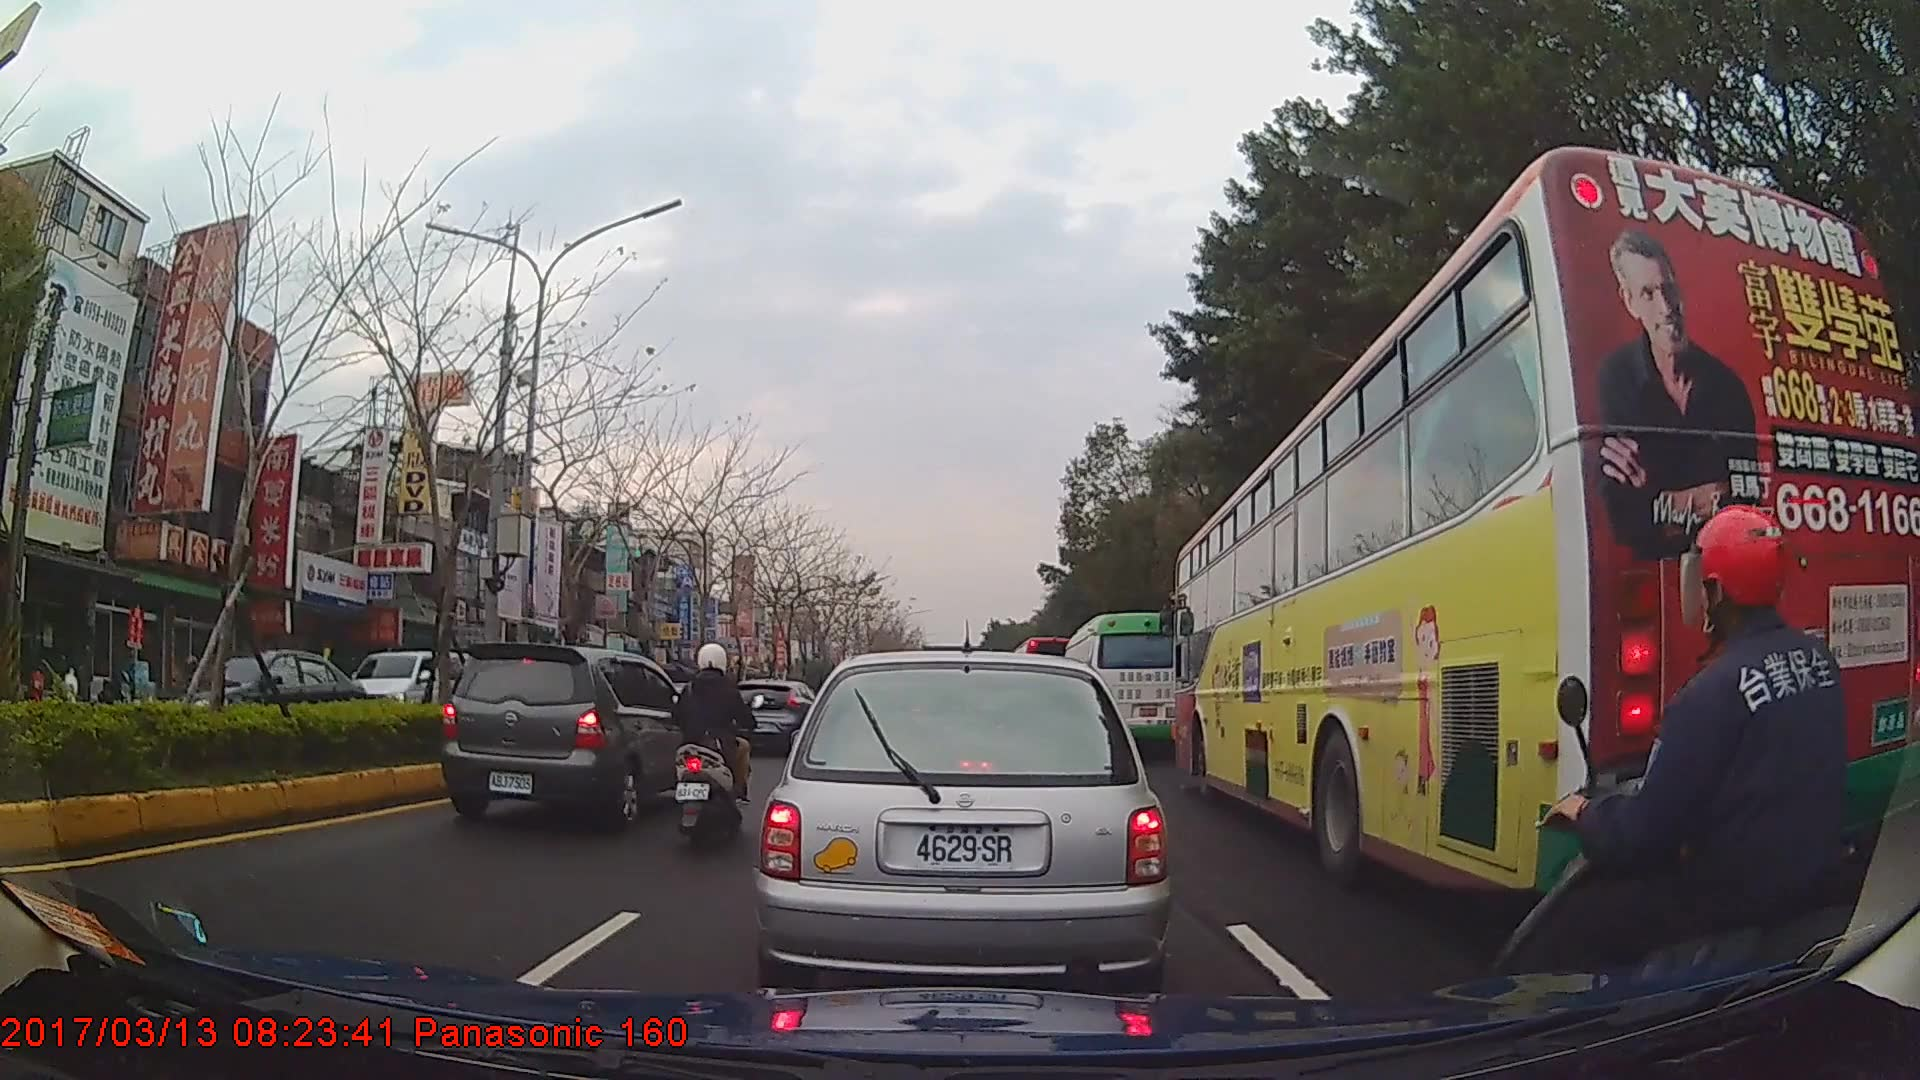rider: (1514, 500, 1883, 1074), (670, 641, 758, 843)
vehicle: (1172, 145, 1919, 901), (755, 651, 1170, 1002), (441, 642, 694, 828), (141, 644, 368, 754), (1062, 610, 1188, 757), (728, 678, 821, 757)
